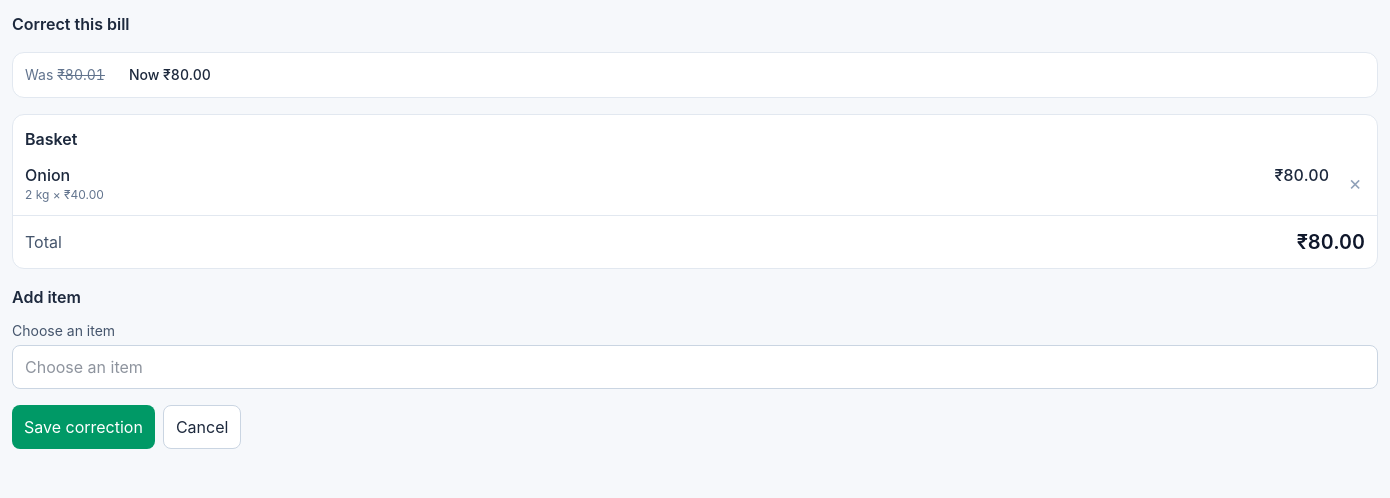
Test: correcting a pending bill › refuses to save an empty basket
Expected: the text "Onion" is shown, [25, 163, 70, 187]
Click the button named "remove onion" at (1355, 183), box [1333, 161, 1377, 205]
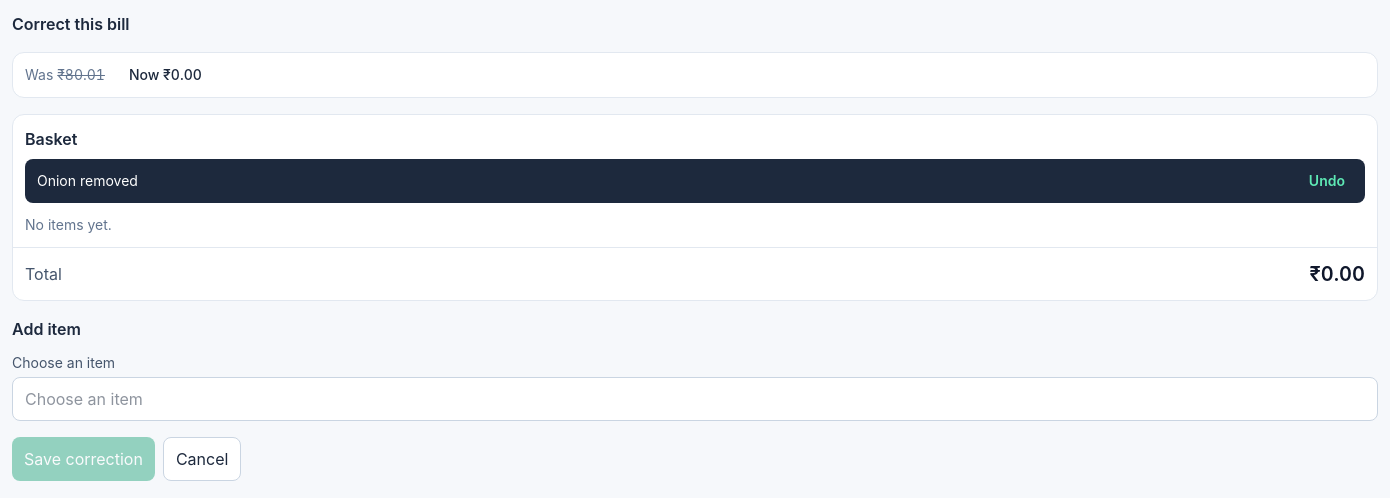
Result: the button with test id "amend-save" is disabled at [12, 437, 155, 481]
